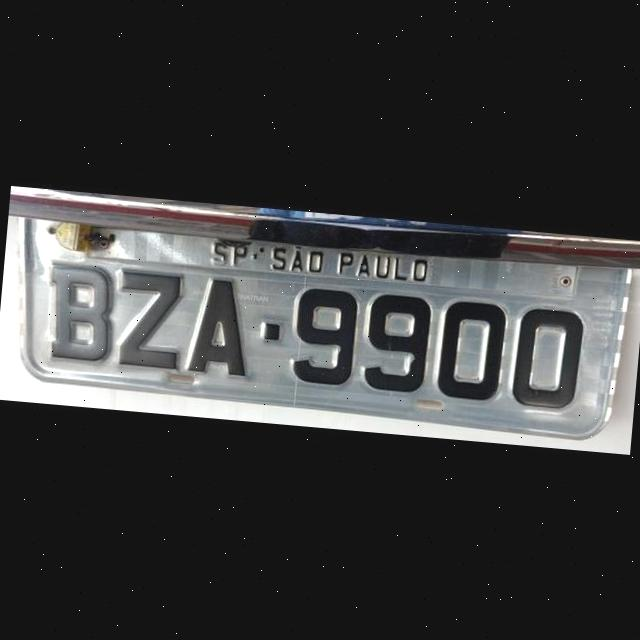Caractere: (37, 256, 125, 366), (508, 300, 588, 410), (356, 286, 434, 394), (182, 270, 256, 380), (434, 294, 508, 403), (112, 264, 188, 370), (290, 282, 362, 388)
Placa: (3, 207, 634, 439)
